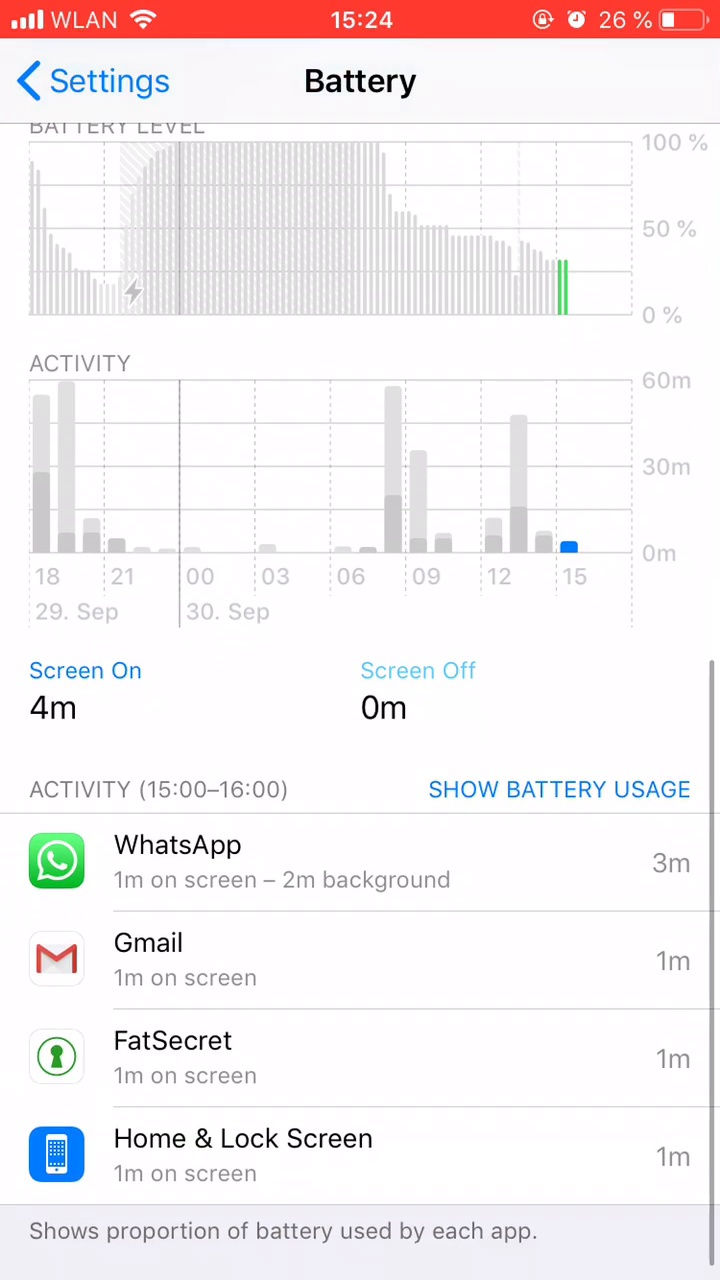activity: (24, 766, 295, 808)
app: (23, 920, 702, 1001), (16, 1115, 703, 1194), (19, 826, 703, 905), (21, 1020, 700, 1099)
